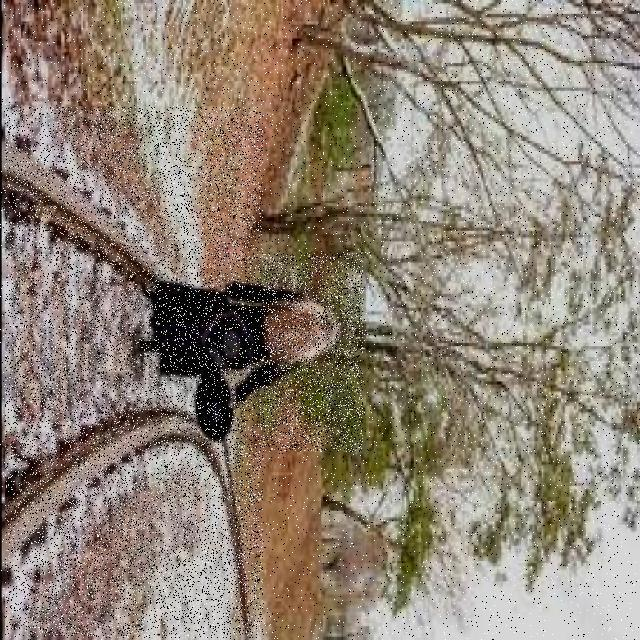danger: (117, 253, 363, 452)
rail: (6, 108, 263, 638)
